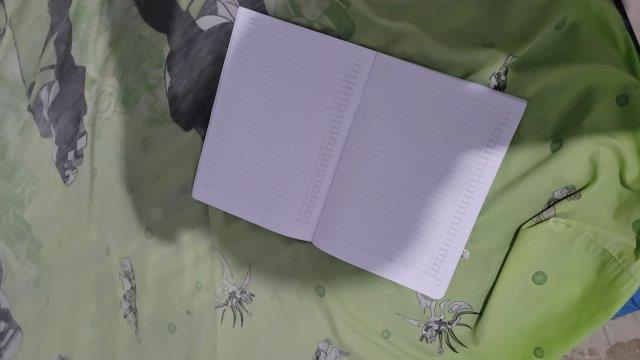kertas: (190, 6, 528, 301)
